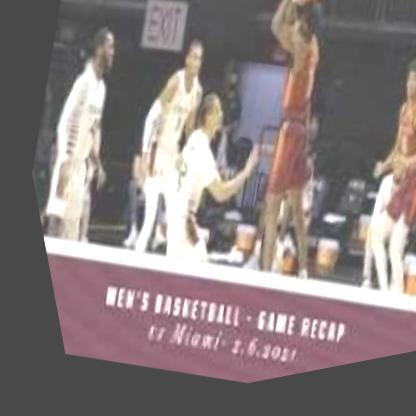basketball: (281, 0, 331, 25)
